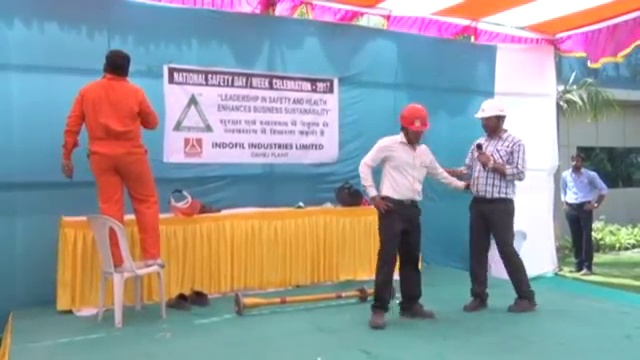helmet: (399, 102, 431, 132), (472, 98, 507, 119)
helmet_off: (102, 48, 132, 79), (568, 152, 584, 173)
helmet_on: (471, 97, 508, 140), (399, 100, 431, 147)
person: (356, 100, 469, 332), (58, 48, 168, 269), (451, 98, 539, 315), (558, 152, 608, 277)
